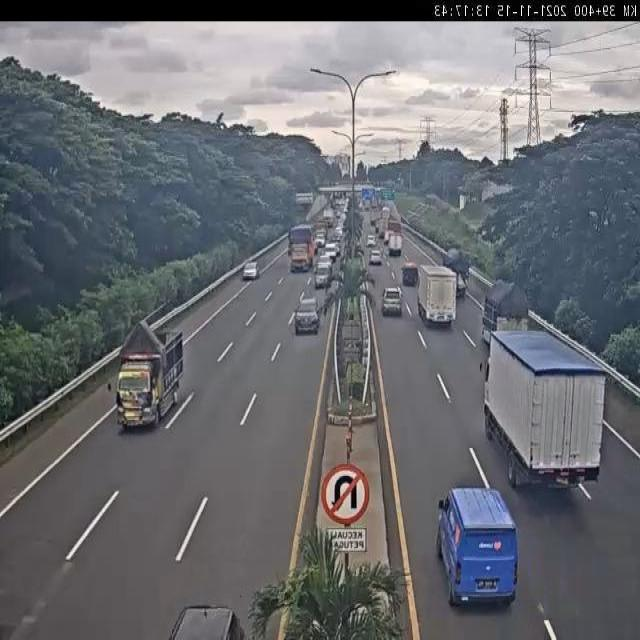Car: (294, 298, 320, 334), (312, 266, 333, 292), (382, 288, 402, 315), (244, 260, 259, 281)
Truck: (482, 328, 607, 492), (436, 484, 519, 610), (112, 321, 185, 428), (482, 281, 529, 341), (418, 264, 456, 323), (286, 224, 314, 272)
